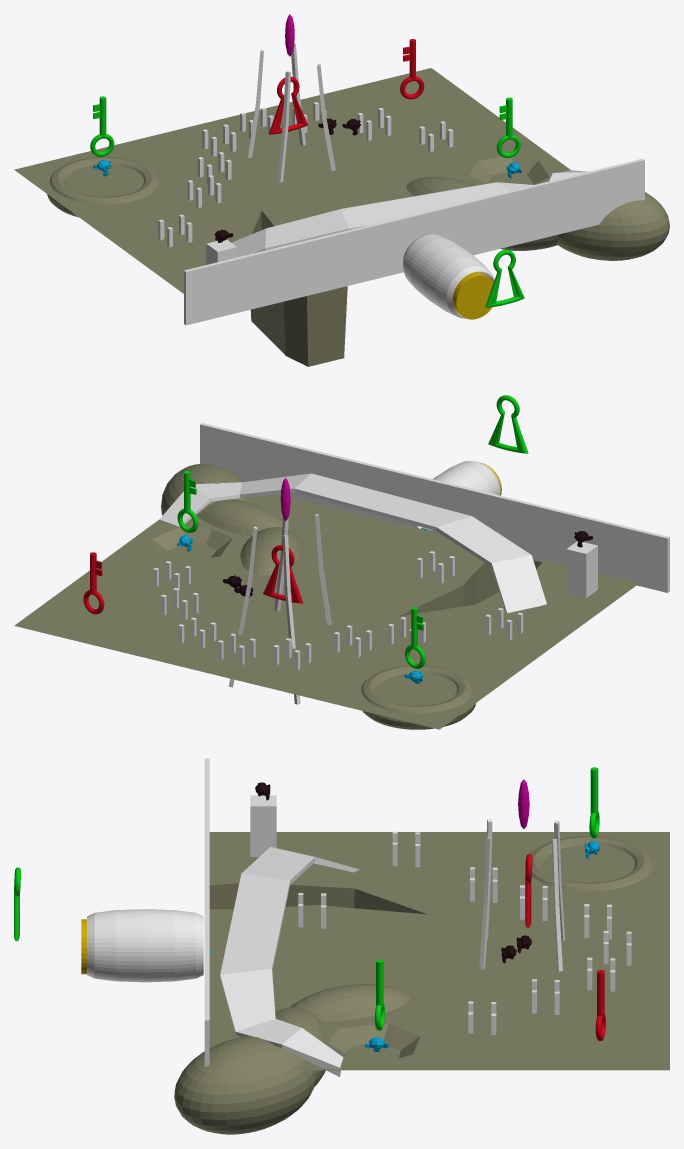
Rendered from Deserto Area 2.fbx.
The picture shows the model from 3 angles, top to bottom: view 1: azimuth 30°, elevation 25°; view 2: azimuth 150°, elevation 25°; view 3: azimuth 270°, elevation 25°; orthographic projection. The views are drawn at different scales.
Parts seen in each view (by area): view 1: Plane.001, Cube.004, Cube.005, Sphere.002, Torus.004, Torus.007, Cube.007, Cylinder, Torus.001, Sphere.003, Torus.003, Cube.006 (+2 smaller); view 2: Plane.001, Cube.004, Cube.005, Torus.007, Cube.007, Sphere.009, Sphere.003, Cube.006, Sphere.002, Torus.004, Torus.001, Torus.003 (+7 smaller); view 3: Plane.001, Cube.005, Sphere.002, Torus.004, Sphere.003, Torus.007, Cube.007, Cube.004, Cube.006, Sphere.009.
Boxes of the visible parts, x1=… form: Plane.001: x1=14, y1=68, x2=570, y2=366; Cube.004: x1=184, y1=158, x2=644, y2=325; Cube.005: x1=231, y1=170, x2=587, y2=257; Sphere.002: x1=557, y1=192, x2=669, y2=260; Torus.004: x1=402, y1=234, x2=494, y2=318; Torus.007: x1=47, y1=157, x2=159, y2=217; Cube.007: x1=248, y1=43, x2=335, y2=182; Cylinder: x1=452, y1=272, x2=493, y2=319; Torus.001: x1=485, y1=249, x2=524, y2=307; Sphere.003: x1=406, y1=176, x2=475, y2=196; Torus.003: x1=269, y1=76, x2=307, y2=134; Cube.006: x1=206, y1=239, x2=237, y2=264; Plane.001: x1=14, y1=494, x2=639, y2=729; Cube.004: x1=200, y1=423, x2=669, y2=592; Cube.005: x1=159, y1=473, x2=546, y2=613; Torus.007: x1=361, y1=665, x2=475, y2=729; Cube.007: x1=228, y1=514, x2=331, y2=704; Sphere.009: x1=198, y1=499, x2=289, y2=535; Sphere.003: x1=240, y1=527, x2=301, y2=575; Cube.006: x1=566, y1=541, x2=597, y2=597; Sphere.002: x1=161, y1=463, x2=249, y2=516; Torus.004: x1=422, y1=461, x2=500, y2=529; Torus.001: x1=488, y1=395, x2=528, y2=453; Torus.003: x1=263, y1=545, x2=303, y2=603; Plane.001: x1=209, y1=832, x2=669, y2=1070; Cube.005: x1=220, y1=847, x2=358, y2=1077; Sphere.002: x1=174, y1=1036, x2=316, y2=1134; Torus.004: x1=87, y1=909, x2=203, y2=982; Sphere.003: x1=289, y1=984, x2=410, y2=1021; Torus.007: x1=525, y1=836, x2=653, y2=891; Cube.007: x1=479, y1=819, x2=565, y2=971; Cube.004: x1=204, y1=758, x2=209, y2=1066; Cube.006: x1=250, y1=795, x2=276, y2=856; Sphere.009: x1=275, y1=1007, x2=325, y2=1086.
Size of the model in its own units: 25919 by 11597 by 26043.
